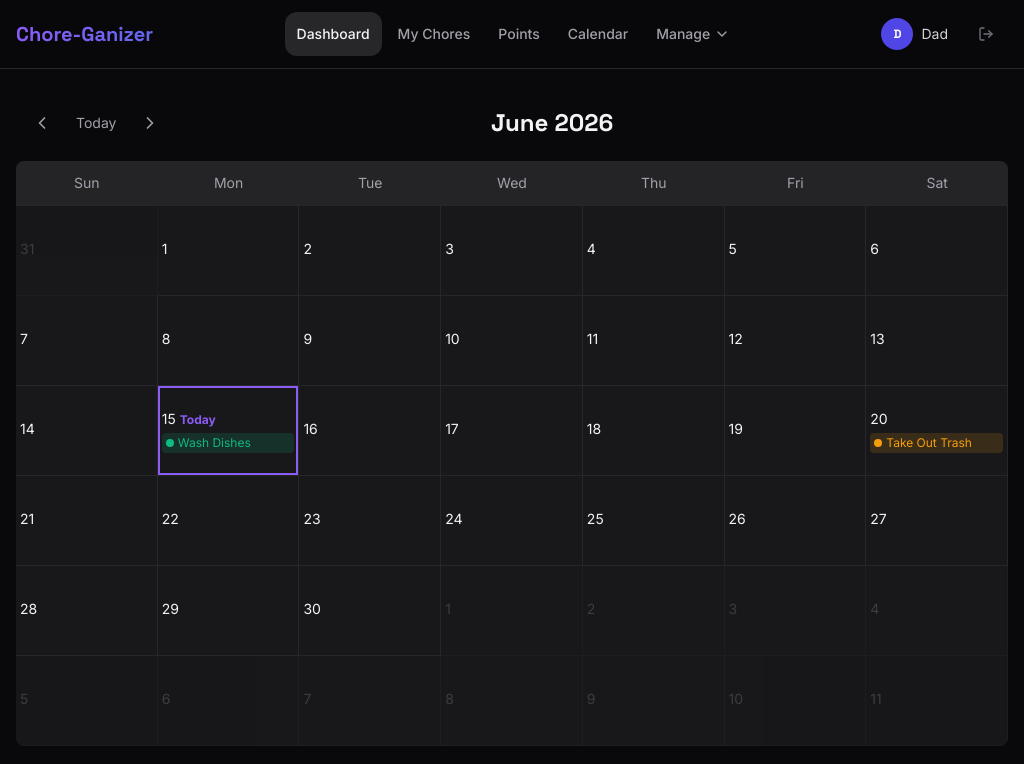
Test: CalendarPage › shows an empty-state message for a selected date with no chores
Click the button named "View chores for June 16, 2026": (370, 431) left=299, top=386, right=441, bottom=476
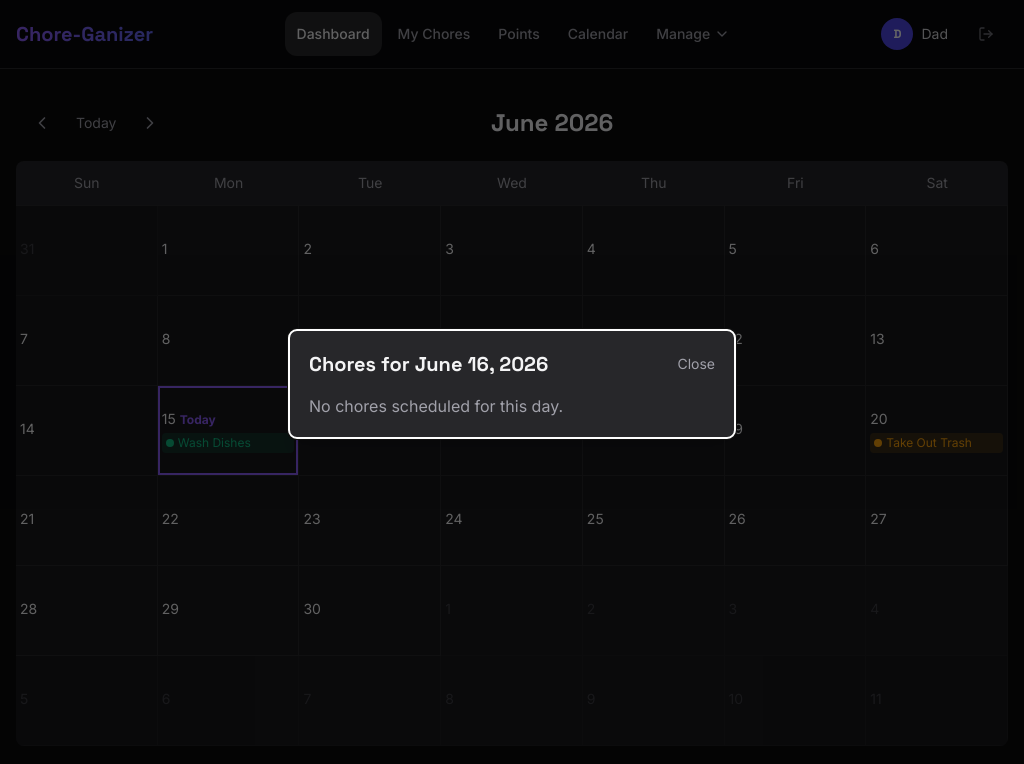
Expected: the text "No chores scheduled for this day." is shown, left=309, top=396, right=563, bottom=416
